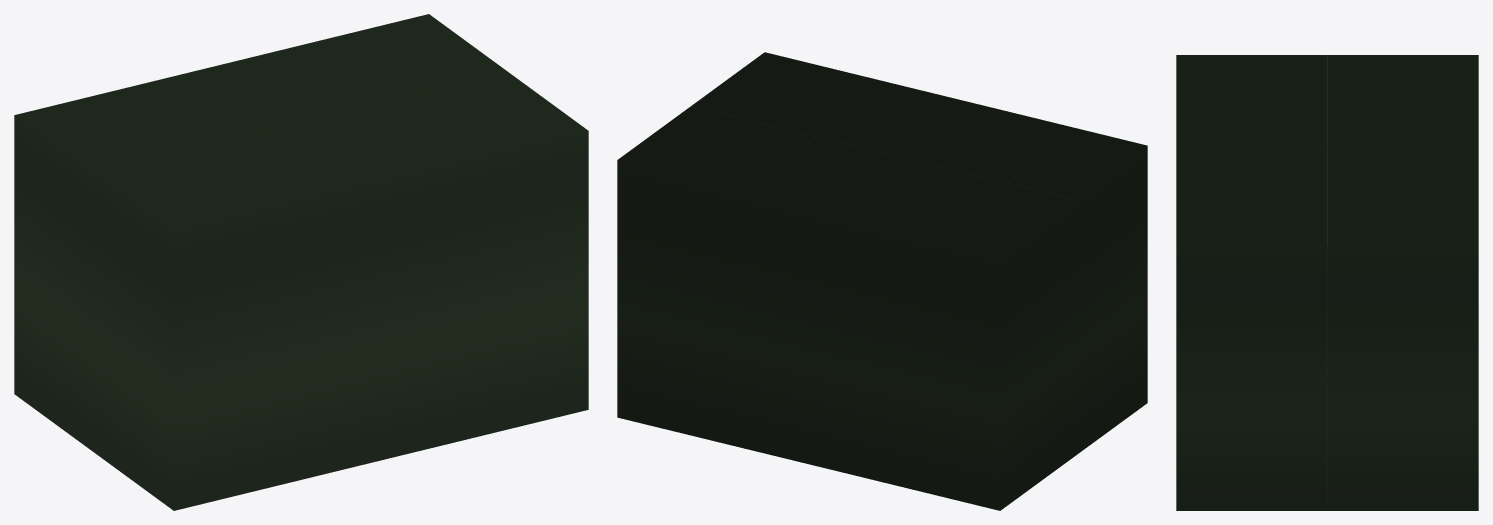
The model's file is prop_dumpster_metal_a.glb.
3 renders of one model, left to right at view 1: azimuth 30°, elevation 25°; view 2: azimuth 150°, elevation 25°; view 3: azimuth 270°, elevation 25°, orthographic. The views are drawn at different scales.
Parts seen in each view (by area): view 1: prop_dumpster_metal_a; view 2: prop_dumpster_metal_a; view 3: prop_dumpster_metal_a.
Part boxes in pixels (x1=…): prop_dumpster_metal_a: x1=14, y1=14, x2=588, y2=510; prop_dumpster_metal_a: x1=617, y1=52, x2=1147, y2=510; prop_dumpster_metal_a: x1=1176, y1=55, x2=1478, y2=510.
Bounding box in the file's own units: 2.1 × 1.68 × 1.4.
Materials: 1 (1 with a texture image).
